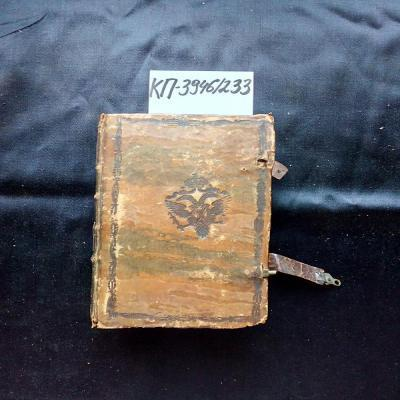rare_books: (91, 114, 340, 332)
